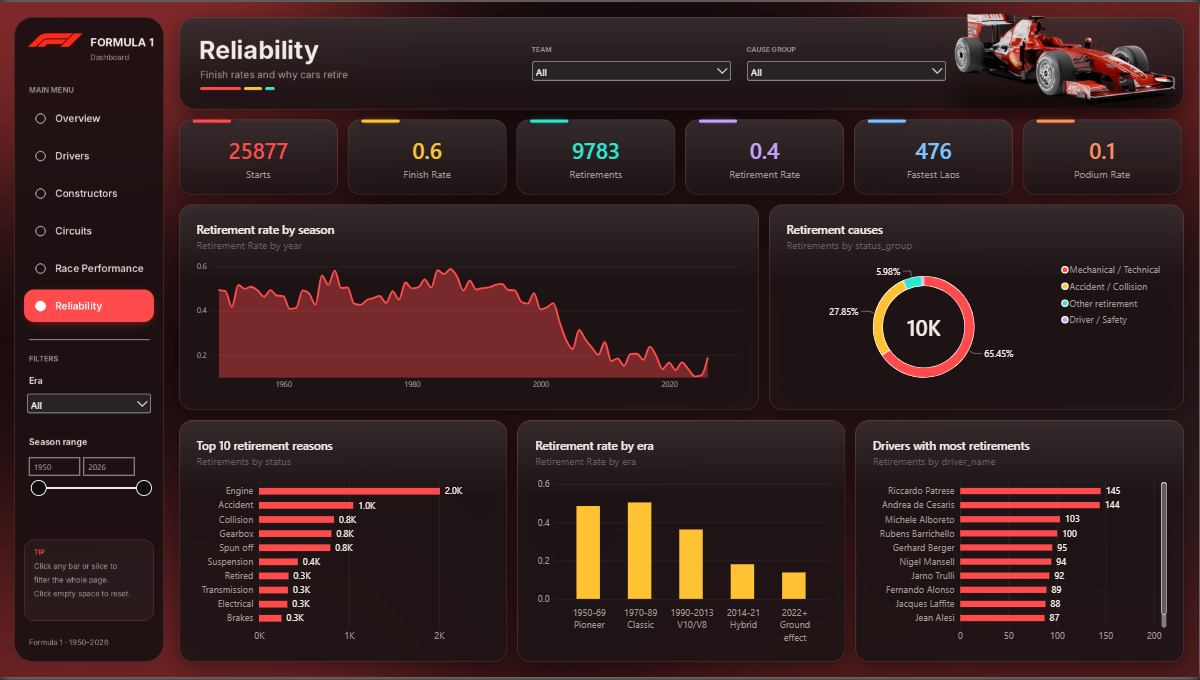

This screenshot's page, from the dashboard's own definition file:
{"tool":"powerbi","page":{"name":"Reliability","canvas":[1920,1080],"ordinal":5},"visuals":[{"type":"actionButton","box":[40,160,208,52],"z":1000},{"type":"actionButton","box":[40,220,208,52],"z":2000},{"type":"actionButton","box":[40,280,208,52],"z":3000},{"type":"actionButton","box":[40,340,208,52],"z":4000},{"type":"actionButton","box":[40,400,208,52],"z":5000},{"type":"actionButton","box":[40,460,208,52],"z":6000},{"type":"slicer","fields":{"Values":["dim_race.era"]},"box":[40,622,208,44],"z":7000},{"type":"slicer","fields":{"Values":["dim_race.year"]},"box":[40,724,208,96],"z":8000},{"type":"slicer","fields":{"Values":["dim_constructor.constructor_name"]},"box":[848,90,328,40],"z":9000},{"type":"slicer","fields":{"Values":["dim_status.status_group"]},"box":[1192,90,328,40],"z":10000},{"type":"card","fields":{"Values":["_Measures.Starts"]},"box":[300,202,230,96],"z":11000},{"type":"card","fields":{"Values":["_Measures.Finish Rate"]},"box":[570,202,230,96],"z":12000},{"type":"card","fields":{"Values":["_Measures.Retirements"]},"box":[840,202,230,96],"z":13000},{"type":"card","fields":{"Values":["_Measures.Retirement Rate"]},"box":[1110,202,230,96],"z":14000},{"type":"card","fields":{"Values":["_Measures.Fastest Laps"]},"box":[1380,202,230,96],"z":15000},{"type":"card","fields":{"Values":["_Measures.Podium Rate"]},"box":[1650,202,230,96],"z":16000},{"type":"areaChart","title":"Retirement rate by season","fields":{"Category":["dim_race.year"],"Y":["_Measures.Retirement Rate"]},"box":[300,336,904,305],"z":17000},{"type":"donutChart","title":"Retirement causes","fields":{"Category":["dim_status.status_group"],"Y":["_Measures.Retirements"]},"box":[1244,336,640,305],"z":18000},{"type":"clusteredBarChart","title":"Top 10 retirement reasons","fields":{"Category":["dim_status.status"],"Y":["_Measures.Retirements"]},"box":[300,681,501,363],"z":19000},{"type":"clusteredColumnChart","title":"Retirement rate by era","fields":{"Category":["dim_race.era"],"Y":["_Measures.Retirement Rate"]},"box":[841,681,501,363],"z":20000},{"type":"clusteredBarChart","title":"Drivers with most retirements","fields":{"Category":["dim_driver.driver_name"],"Y":["_Measures.Retirements"]},"box":[1382,681,502,363],"z":21000}]}

Visuals, with their boxes on the page's 1920x1080 design canvas (x1, y1, x2, y2). These are canvas units, not pixel positions in the 1200x680 screenshot, which may show the page scaled, cropped or inside an application window:
actionButton: pyautogui.locateOnScreen(40, 160, 248, 212)
actionButton: pyautogui.locateOnScreen(40, 220, 248, 272)
actionButton: pyautogui.locateOnScreen(40, 280, 248, 332)
actionButton: pyautogui.locateOnScreen(40, 340, 248, 392)
actionButton: pyautogui.locateOnScreen(40, 400, 248, 452)
actionButton: pyautogui.locateOnScreen(40, 460, 248, 512)
slicer - dim_race.era: pyautogui.locateOnScreen(40, 622, 248, 666)
slicer - dim_race.year: pyautogui.locateOnScreen(40, 724, 248, 820)
slicer - dim_constructor.constructor_name: pyautogui.locateOnScreen(848, 90, 1176, 130)
slicer - dim_status.status_group: pyautogui.locateOnScreen(1192, 90, 1520, 130)
card - _Measures.Starts: pyautogui.locateOnScreen(300, 202, 530, 298)
card - _Measures.Finish Rate: pyautogui.locateOnScreen(570, 202, 800, 298)
card - _Measures.Retirements: pyautogui.locateOnScreen(840, 202, 1070, 298)
card - _Measures.Retirement Rate: pyautogui.locateOnScreen(1110, 202, 1340, 298)
card - _Measures.Fastest Laps: pyautogui.locateOnScreen(1380, 202, 1610, 298)
card - _Measures.Podium Rate: pyautogui.locateOnScreen(1650, 202, 1880, 298)
"Retirement rate by season" areaChart: pyautogui.locateOnScreen(300, 336, 1204, 641)
"Retirement causes" donutChart: pyautogui.locateOnScreen(1244, 336, 1884, 641)
"Top 10 retirement reasons" clusteredBarChart: pyautogui.locateOnScreen(300, 681, 801, 1044)
"Retirement rate by era" clusteredColumnChart: pyautogui.locateOnScreen(841, 681, 1342, 1044)
"Drivers with most retirements" clusteredBarChart: pyautogui.locateOnScreen(1382, 681, 1884, 1044)
